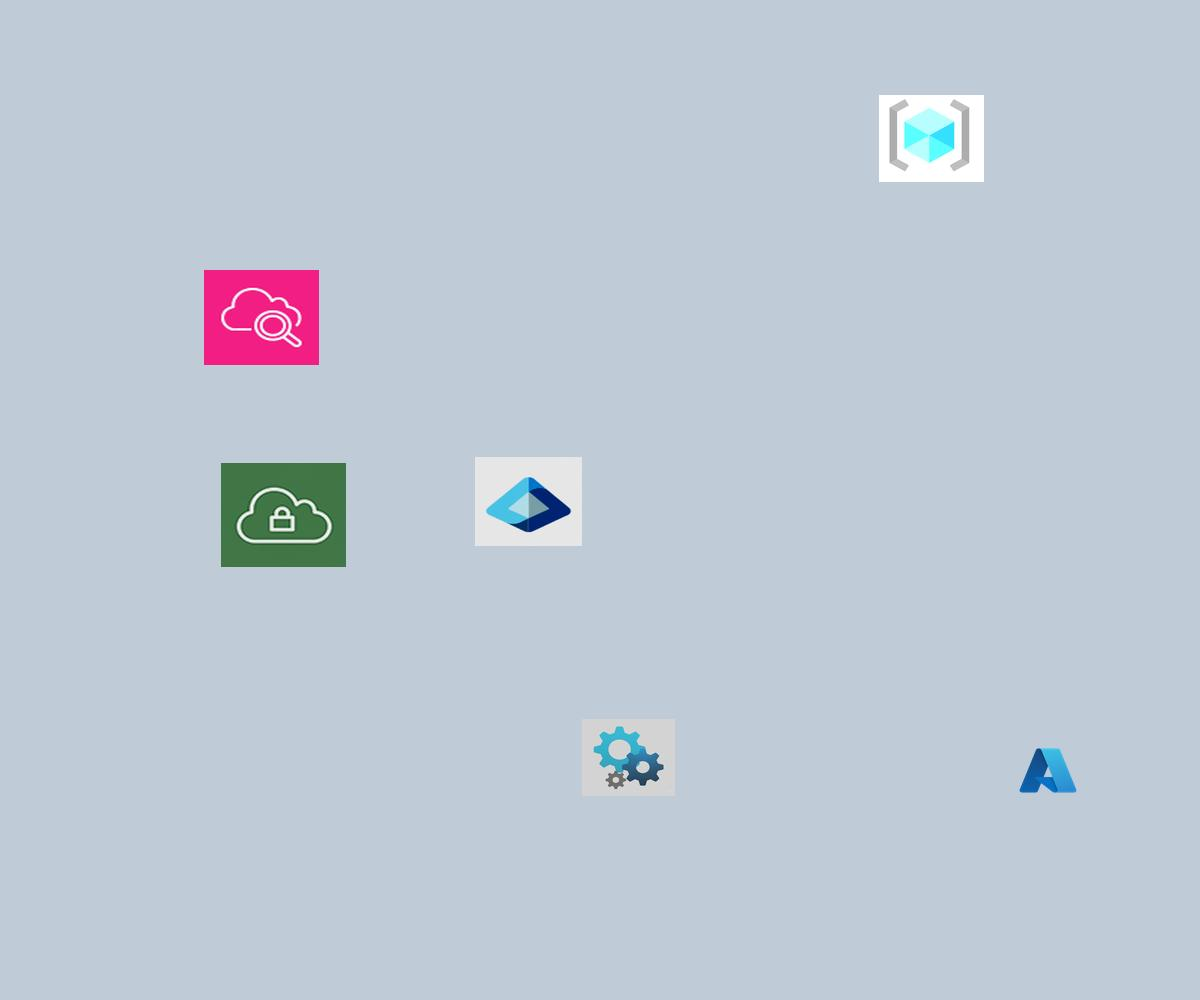AWS-CloudWatch: (204, 270, 319, 365)
AWS-Private_vpc: (221, 463, 346, 567)
Azure_api: (582, 719, 675, 796)
Azure_microsoft_entra: (475, 457, 582, 546)
Azure_resource_group: (879, 95, 984, 182)
Azure_services: (1017, 745, 1079, 796)
